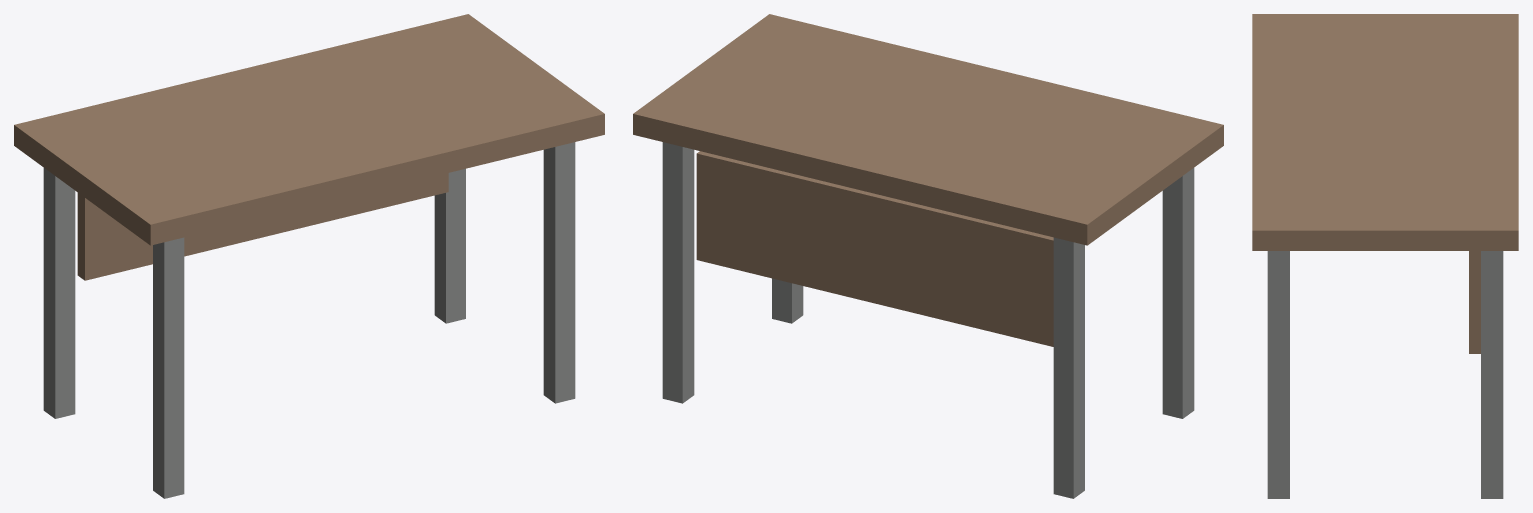
File: desk.glb
3 views of the same model, side by side, from view 1: azimuth 30°, elevation 25°; view 2: azimuth 150°, elevation 25°; view 3: azimuth 270°, elevation 25° (orthographic). The views are drawn at different scales.
Visible parts, largest first — view 1: desk_top, desk_modesty, desk_leg_1_1, desk_leg_0_1, desk_leg_0_0, desk_leg_1_0; view 2: desk_top, desk_modesty, desk_leg_1_0, desk_leg_0_0, desk_leg_0_1, desk_leg_1_1; view 3: desk_top, desk_leg_1_0, desk_leg_1_1, desk_modesty.
Part boxes in pixels (<box>): desk_top: <box>14,14,604,245</box>; desk_modesty: <box>77,173,448,280</box>; desk_leg_1_1: <box>543,142,575,403</box>; desk_leg_0_1: <box>153,237,184,498</box>; desk_leg_0_0: <box>43,168,75,418</box>; desk_leg_1_0: <box>434,168,465,323</box>; desk_top: <box>633,14,1223,245</box>; desk_modesty: <box>696,151,1053,346</box>; desk_leg_1_0: <box>662,142,694,403</box>; desk_leg_0_0: <box>1053,237,1084,498</box>; desk_leg_0_1: <box>1162,168,1194,418</box>; desk_leg_1_1: <box>772,278,803,323</box>; desk_top: <box>1252,14,1518,250</box>; desk_leg_1_0: <box>1481,251,1503,498</box>; desk_leg_1_1: <box>1267,251,1289,498</box>; desk_modesty: <box>1469,251,1480,353</box>.
Size of the model in its own units: 1.25 by 0.75 by 0.65.
